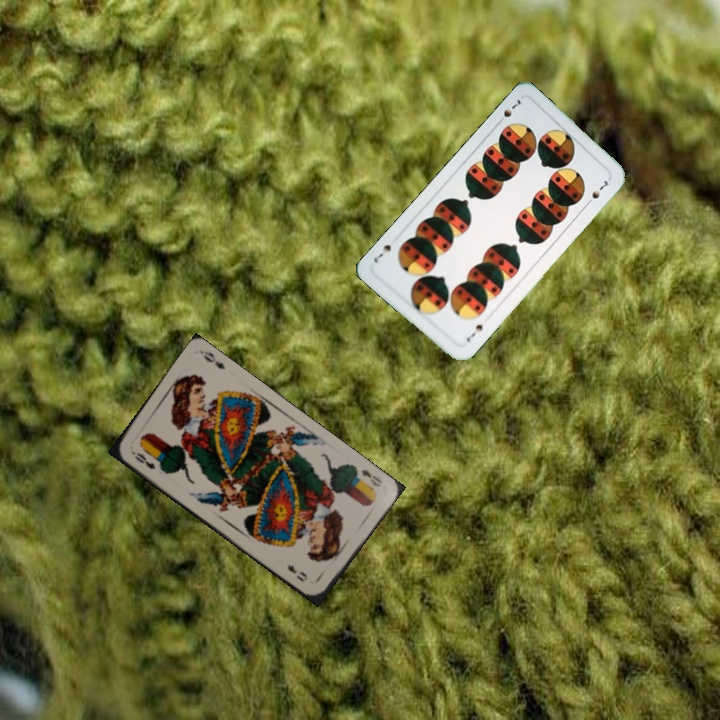EO: (350, 463, 385, 490), (127, 447, 158, 472)
S7: (493, 94, 523, 127), (462, 320, 485, 345)
